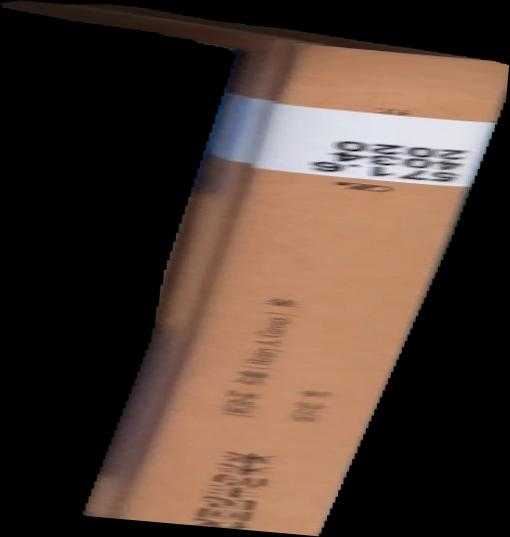reverse: (1, 1, 510, 537)
